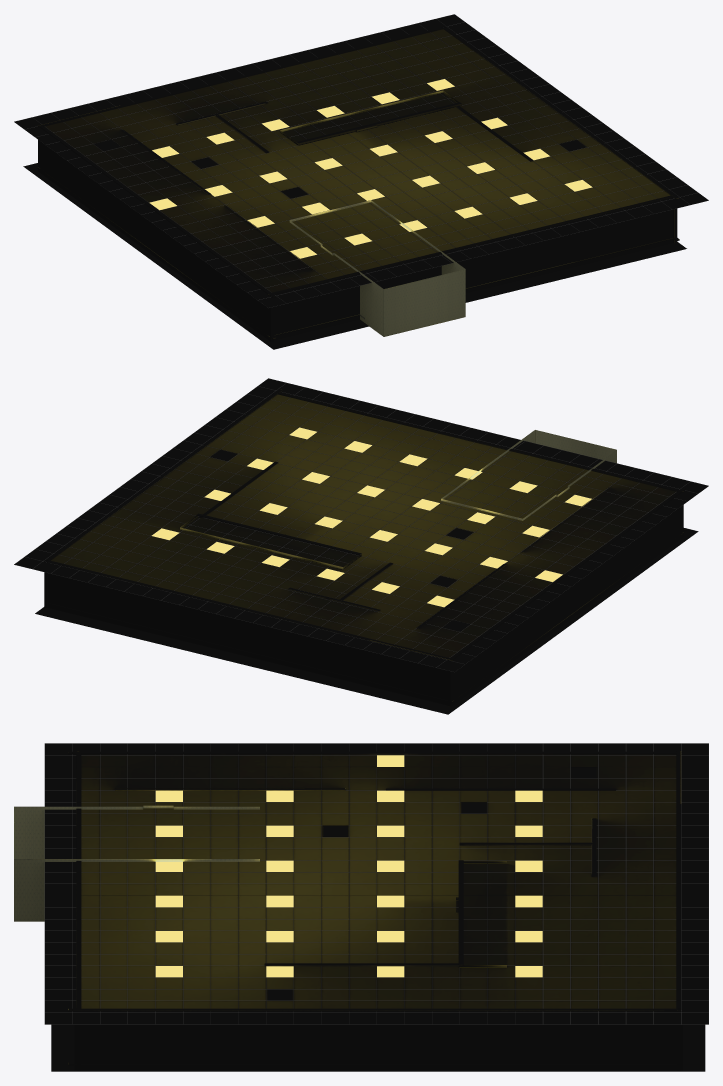
The model's file is Backrooms.glb.
3 views of the same model, one above another, from view 1: azimuth 30°, elevation 25°; view 2: azimuth 150°, elevation 25°; view 3: azimuth 270°, elevation 25° (orthographic). The views are drawn at different scales.
Visible parts, largest first — view 1: Ceiling, BackWall_Double_BR.028, Air_Vent.005, Piece1, Carpet_v1.001; view 2: Ceiling, BackWall_Double_BR.028, Air_Vent.005, Carpet_v1.001, Piece1; view 3: Ceiling, BackWall_Double_BR.028, Air_Vent.005, Piece1, Carpet_v1.001.
Part boxes in pixels (box(x1,y1,x2,y2)): Ceiling: box(14, 14, 708, 307); BackWall_Double_BR.028: box(37, 26, 679, 341); Air_Vent.005: box(15, 14, 708, 307); Piece1: box(289, 200, 465, 336); Carpet_v1.001: box(23, 163, 686, 349); Ceiling: box(14, 378, 708, 671); BackWall_Double_BR.028: box(44, 389, 686, 706); Air_Vent.005: box(14, 378, 708, 672); Carpet_v1.001: box(35, 528, 698, 714); Piece1: box(441, 430, 616, 520); Ceiling: box(45, 743, 708, 1024); BackWall_Double_BR.028: box(68, 751, 682, 1070); Air_Vent.005: box(44, 743, 708, 1024); Piece1: box(14, 805, 259, 921); Carpet_v1.001: box(51, 1024, 705, 1071).
Size of the model in its own units: 21.89 by 2.3 by 22.9.
11 materials, 9 textured.
